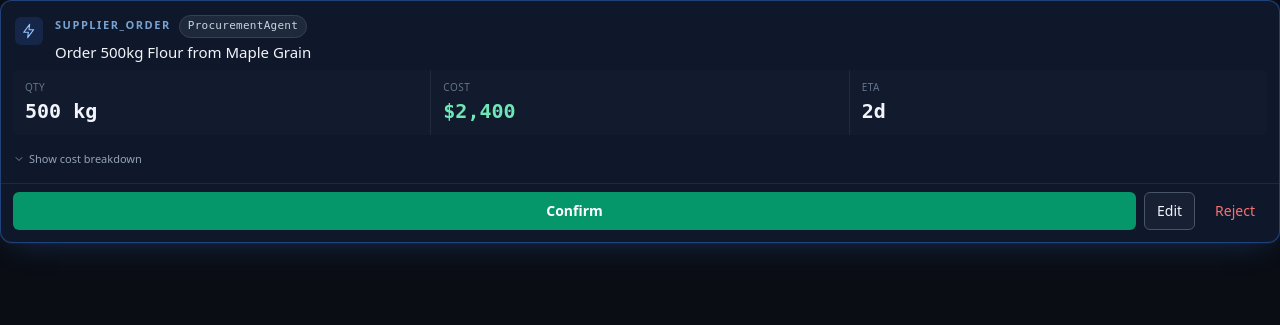
Test: ActionCard › details toggle shows/hides cost breakdown
Click the button "Show cost breakdown" at (77, 159), box [13, 151, 142, 167]
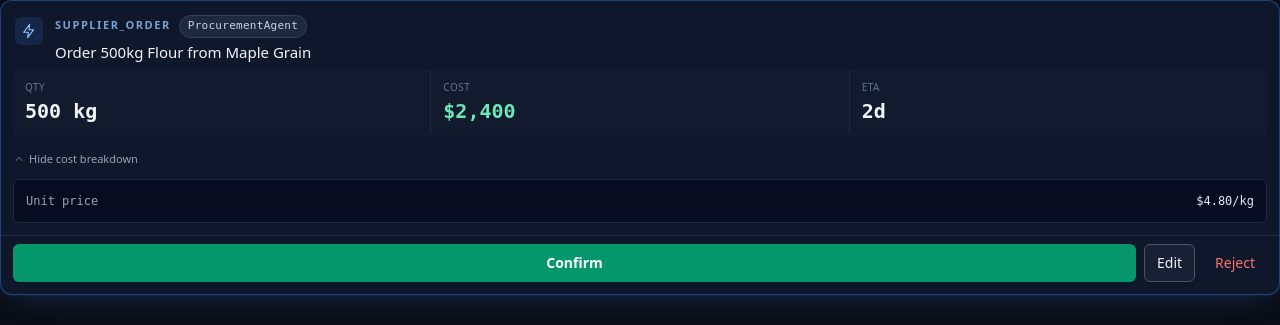
Expected: the text "Unit price" is shown, [26, 192, 98, 210]
Click the button "Hide cost breakdown" at (75, 159), box [13, 151, 138, 167]
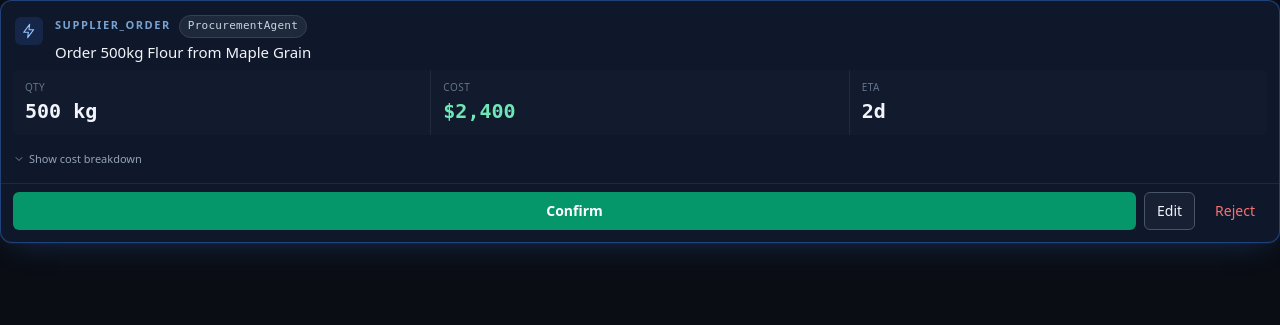
Expected: the text "Unit price" is gone
